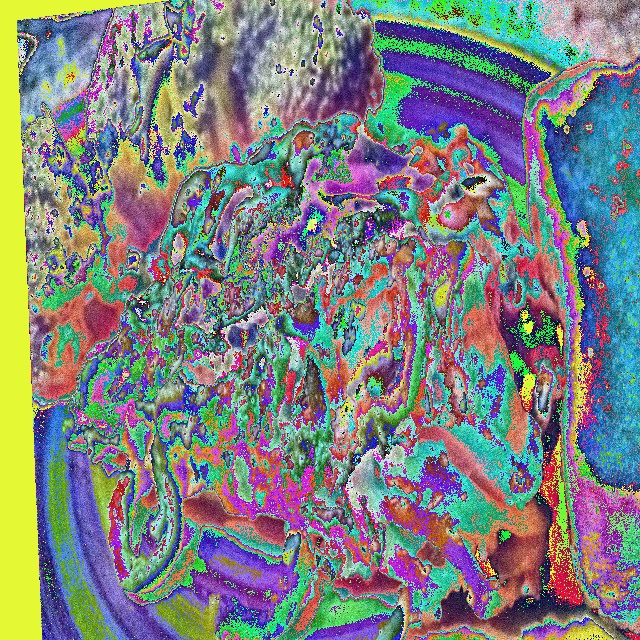background: (22, 0, 639, 640)
